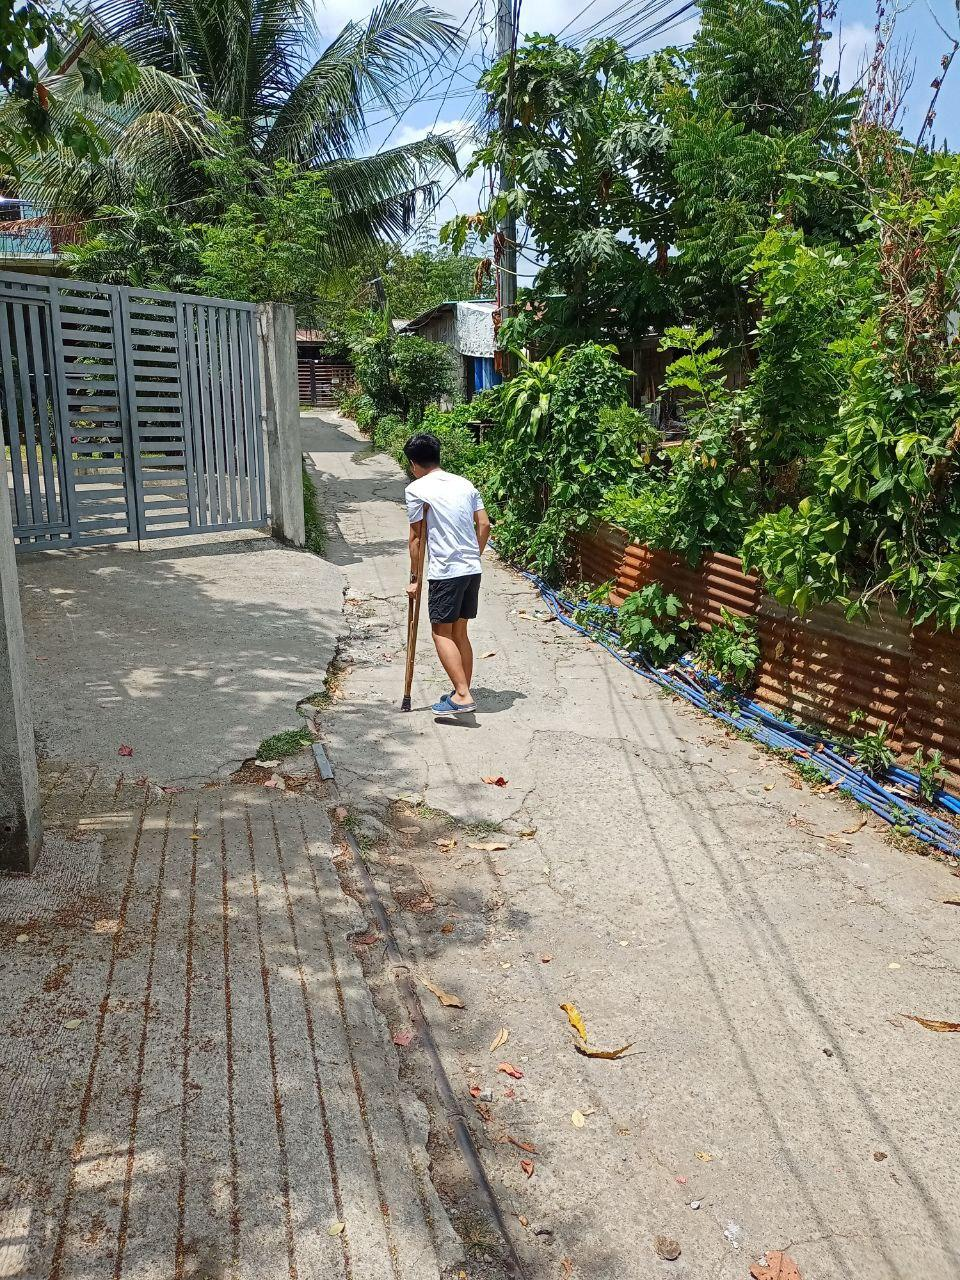crutches: (401, 433, 491, 715)
